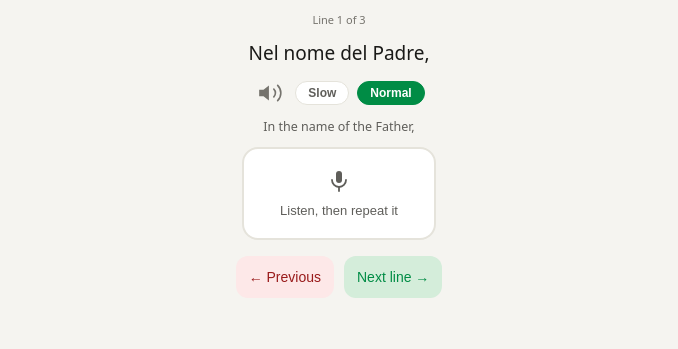
Scenario: DevotionsTab Shadow mode — the mic can always be used again › shows an actionable message when the browser denies the microphone
Click the button with aria-label "recording" at (339, 193), box [242,146,436,240]
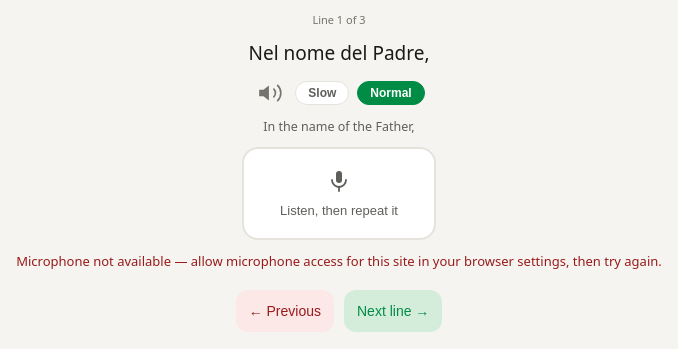
Now the text "allow microphone access" is shown, box [16,252,662,270]
